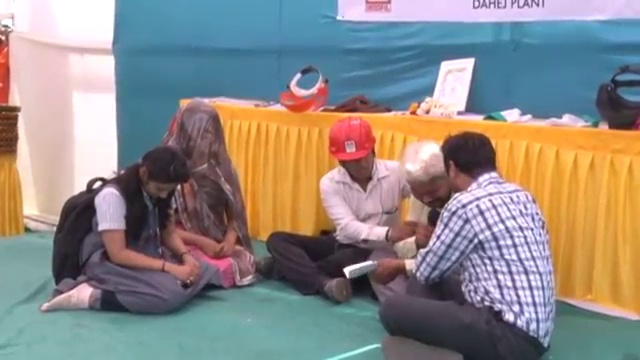helmet: (327, 115, 378, 164)
helmet_off: (441, 133, 503, 201), (128, 144, 190, 205), (171, 100, 223, 168), (399, 140, 449, 206)
helmet_on: (327, 120, 384, 189)
person: (379, 134, 560, 360), (44, 145, 217, 317), (267, 105, 413, 299), (157, 93, 252, 282), (361, 137, 454, 303)
